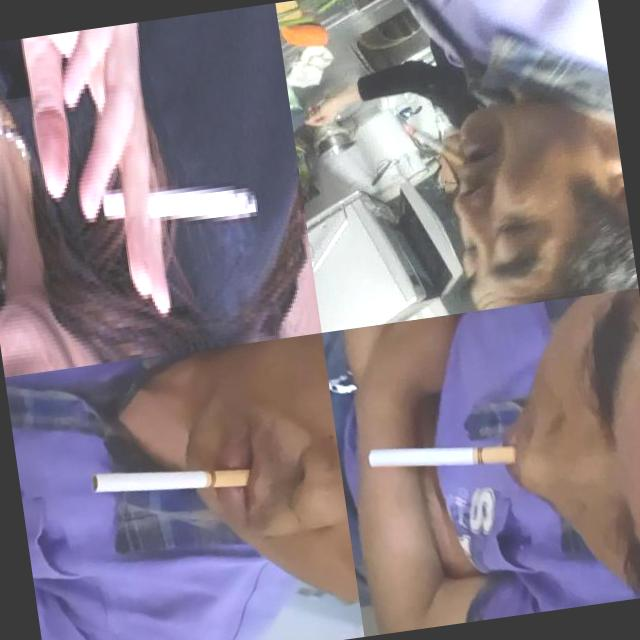smoke: (102, 166, 262, 244), (90, 453, 250, 509), (366, 428, 520, 483), (403, 114, 468, 178)
